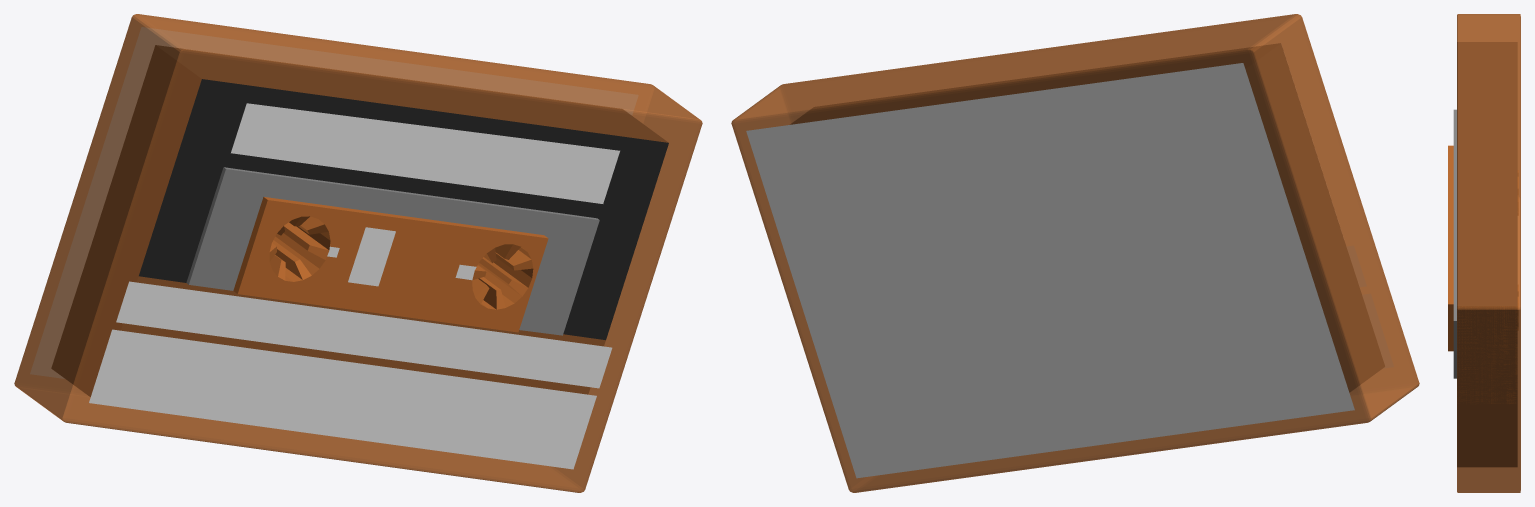
Rendered from Cassette_Orange.fbx.
3 views of the same model, side by side, from view 1: azimuth 30°, elevation 25°; view 2: azimuth 150°, elevation 25°; view 3: azimuth 270°, elevation 25° (orthographic). The views are drawn at different scales.
Visible parts, largest first — view 1: Cube; view 2: Cube; view 3: Cube.
Boxes of the visible parts, bbox=[...] form: Cube: bbox=[14, 14, 702, 492]; Cube: bbox=[731, 14, 1419, 492]; Cube: bbox=[1448, 14, 1520, 492].
Bounding box in the file's own units: 184 × 148 × 27.78.
